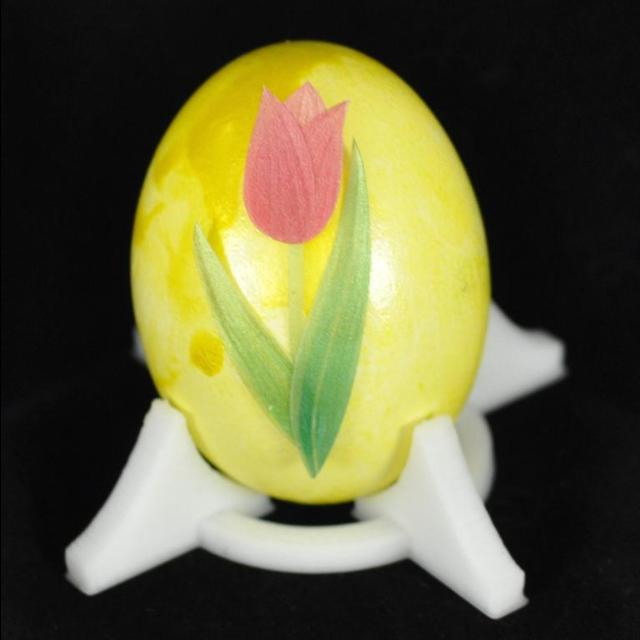Flower: (247, 83, 351, 241)
